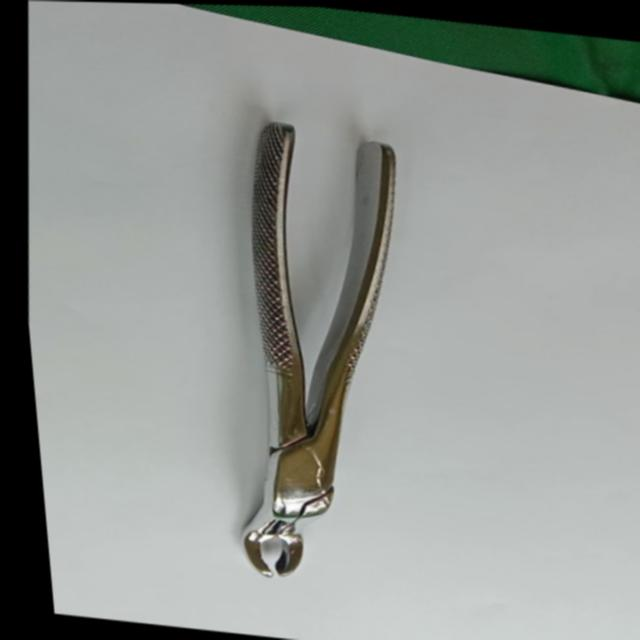BayonetForcep: (183, 107, 439, 600)
